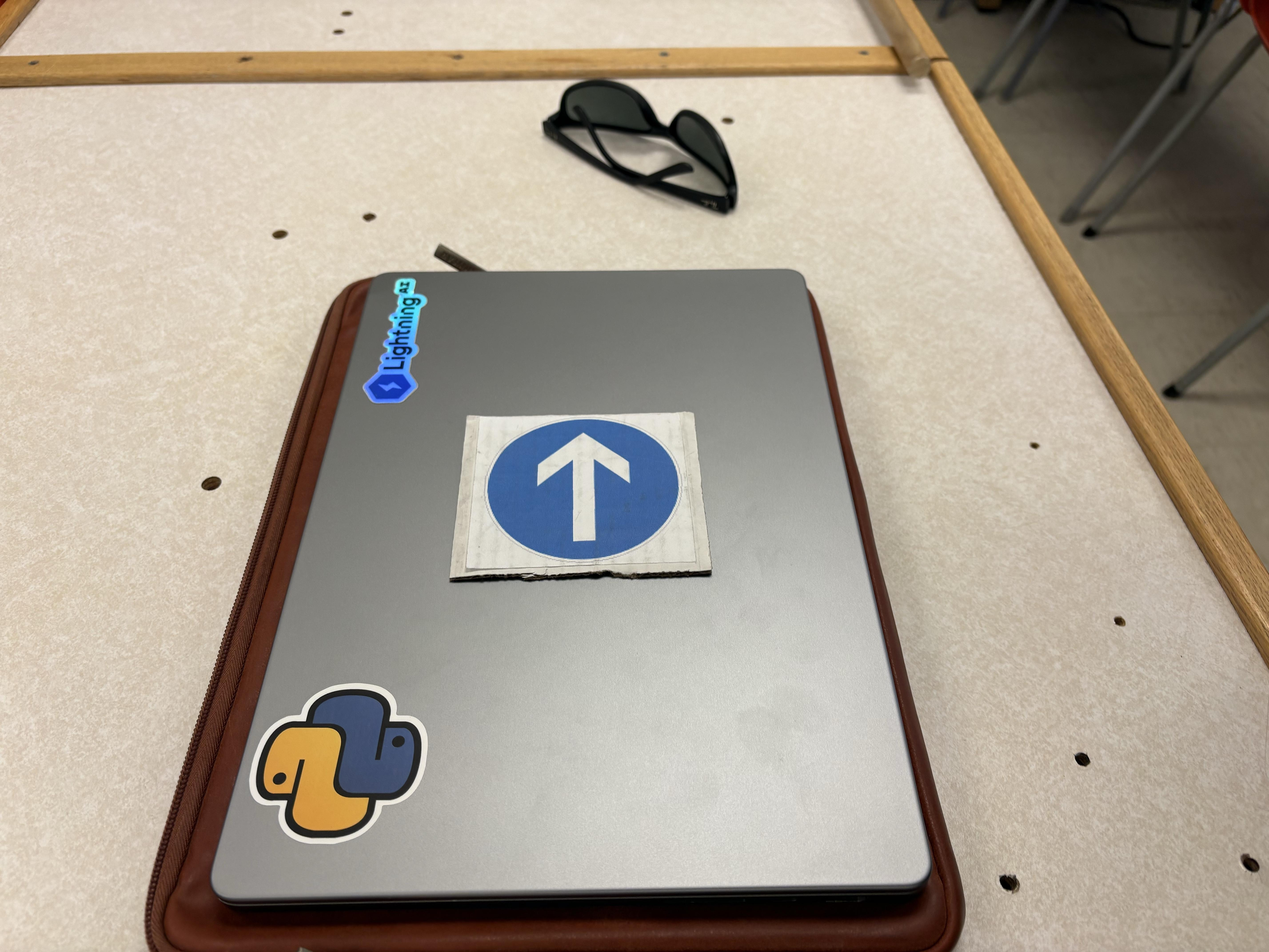Proceed Forward: (452, 412, 717, 592)
